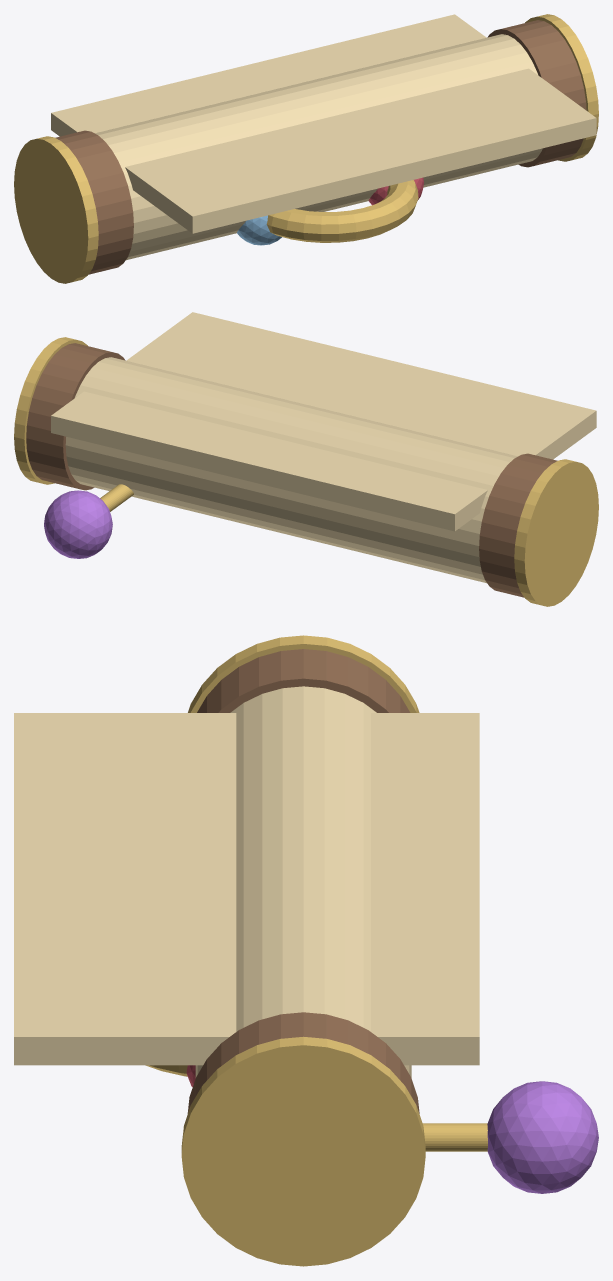
The model's file is efsun_degistirme.glb.
3 views of the same model, one above another, from view 1: azimuth 30°, elevation 25°; view 2: azimuth 150°, elevation 25°; view 3: azimuth 270°, elevation 25° (orthographic). The views are drawn at different scales.
Visible parts, largest first — view 1: world; view 2: world; view 3: world.
Part boxes in pixels (<box>): world: <box>14,14,598,283</box>; world: <box>14,312,598,606</box>; world: <box>14,635,598,1266</box>.
Size of the model in its own units: 1.71 by 0.435 by 1.03.
